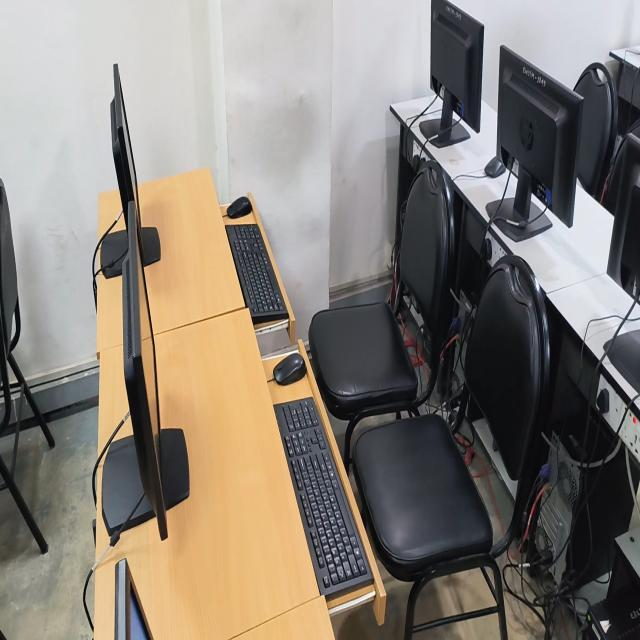Chair: (309, 255, 549, 639), (309, 165, 452, 470), (0, 179, 54, 448), (0, 420, 47, 552), (574, 62, 617, 201)
Cpu: (528, 418, 638, 590)
Keyboard: (274, 397, 372, 597), (226, 225, 288, 324)
Monitor: (102, 200, 189, 540), (486, 45, 583, 241), (419, 0, 484, 147), (607, 136, 640, 310), (110, 64, 136, 228), (115, 559, 151, 639), (605, 315, 640, 394), (100, 229, 129, 278), (140, 227, 160, 265)
Mouse: (273, 353, 307, 385), (227, 196, 252, 219), (484, 155, 506, 178)
